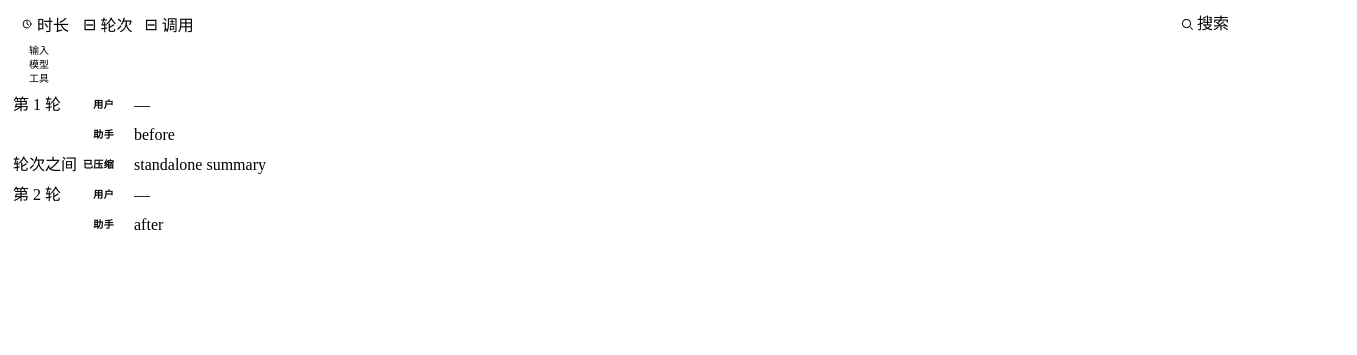
it: ledger and inspector (standalone host) › labels a standalone compaction as between-turn work in the ledger and inspector
The image size is (1357, 355).
Expected: the text "轮次之间" is shown, [8,150,82,176]
Click the button named "请求 #2 · 压缩" at (28, 150), box [20,142,36,158]
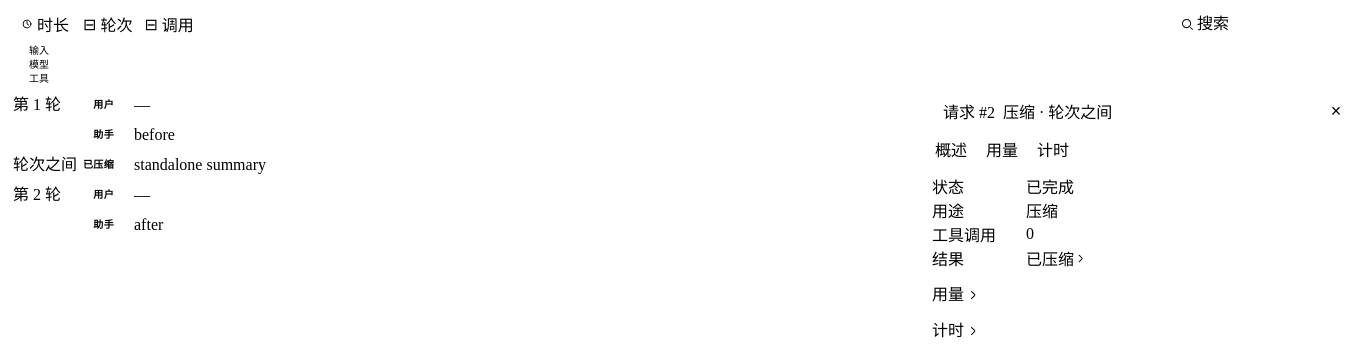
Result: the text "压缩 · 轮次之间" is shown at [1003,99,1112,123]
